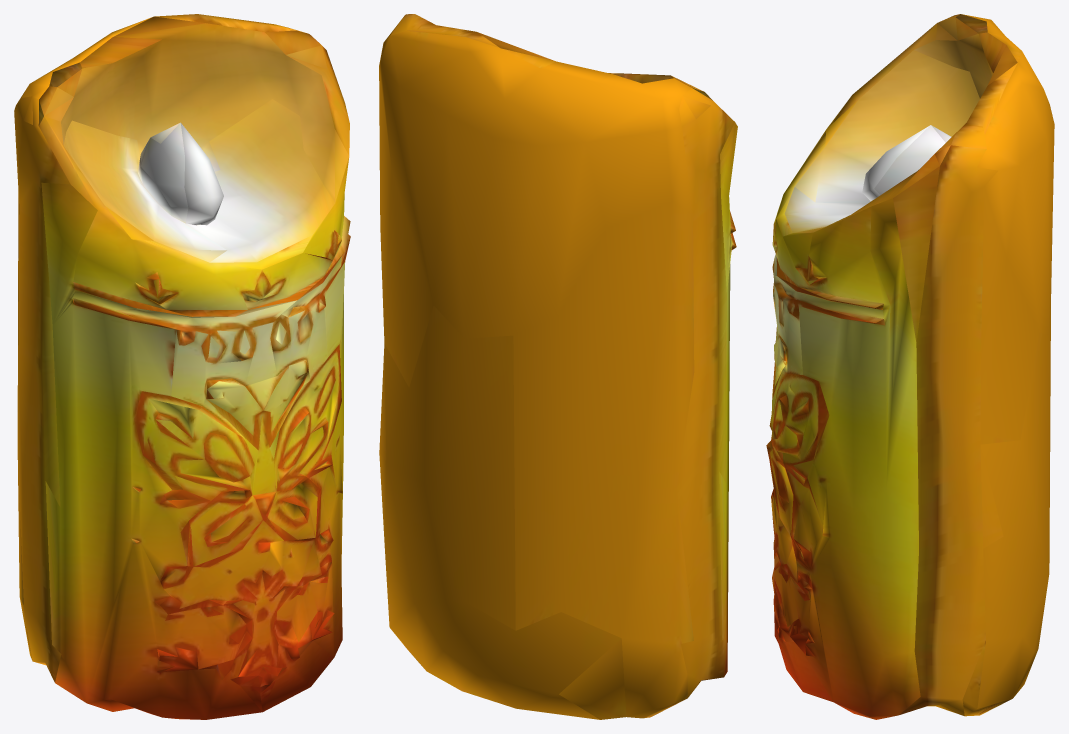
File: bougie.glb
The picture shows the model from 3 angles, left to right: view 1: azimuth 30°, elevation 25°; view 2: azimuth 150°, elevation 25°; view 3: azimuth 270°, elevation 25°; orthographic projection. The views are drawn at different scales.
Parts seen in each view (by area): view 1: LOD0; view 2: LOD0; view 3: LOD0.
Part boxes in pixels (bbox=[...]): LOD0: bbox=[14, 14, 350, 719]; LOD0: bbox=[379, 14, 737, 719]; LOD0: bbox=[766, 14, 1054, 719].
Size of what is drawn, in the model's own units: 0.5666 by 1.13 by 0.4829.
Materials: 1 (1 with a texture image).
